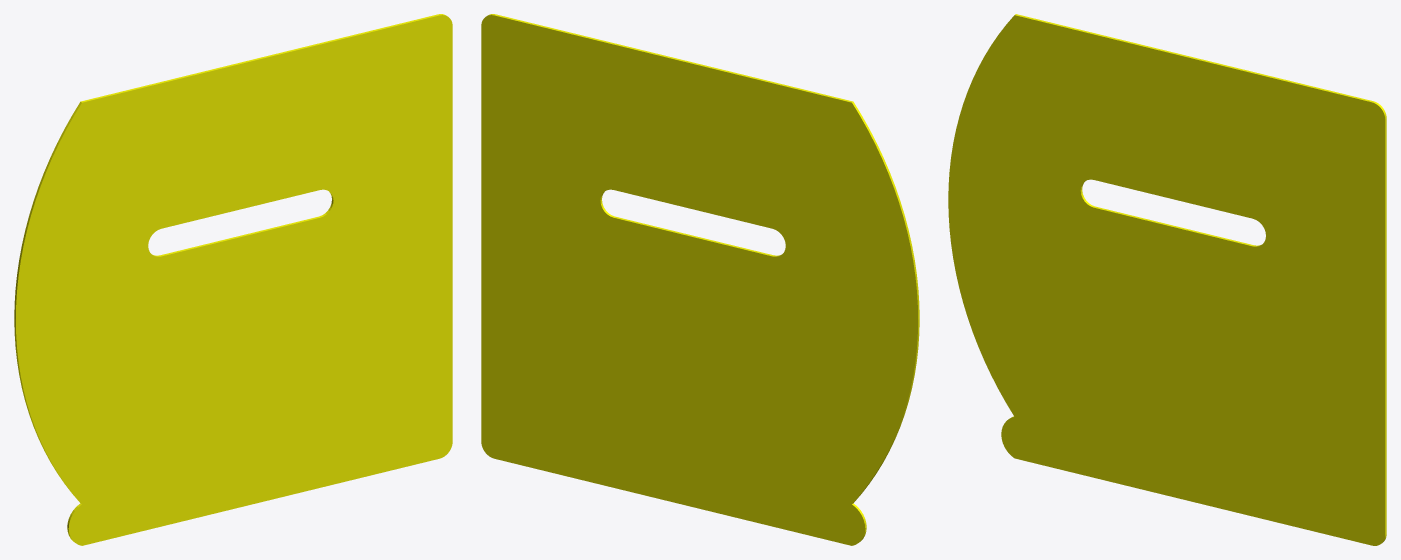
File: gutterCap.glb
The picture shows the model from 3 angles, left to right: view 1: azimuth 30°, elevation 25°; view 2: azimuth 150°, elevation 25°; view 3: azimuth 330°, elevation 25°; orthographic projection.
Parts seen in each view (by area): view 1: Group1; view 2: Group1; view 3: Group1.
Boxes of the visible parts, left/top/right/bottom form: Group1: left=14, top=14, right=452, bottom=545; Group1: left=481, top=14, right=919, bottom=545; Group1: left=948, top=14, right=1386, bottom=545.
Size of the model in its own units: 0.165 by 0.16 by 0.001.
Materials: 1 (1 with a texture image).
